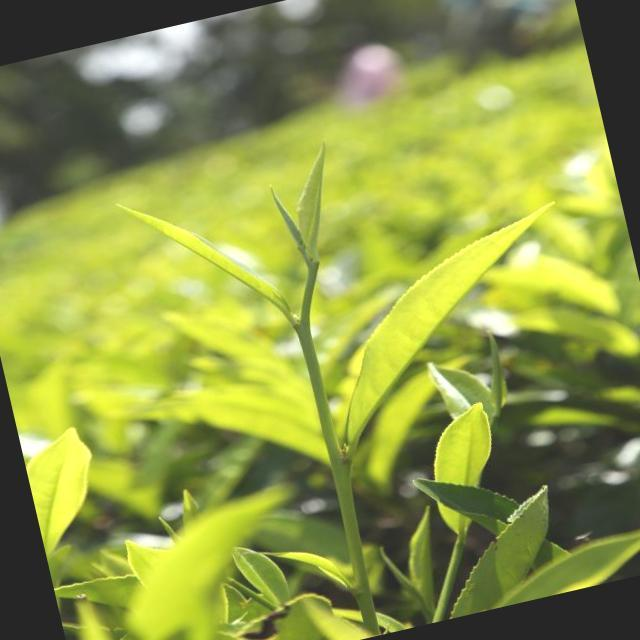Stem: (294, 323, 312, 341)
